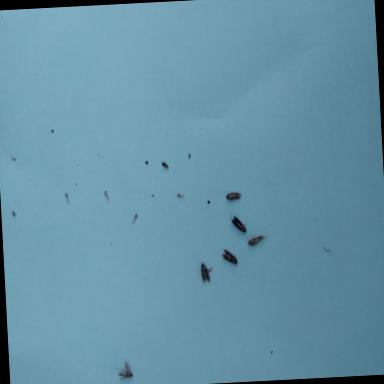pbw: (229, 210, 247, 236), (220, 247, 237, 266), (246, 233, 269, 246), (200, 262, 213, 282), (225, 191, 241, 201)
